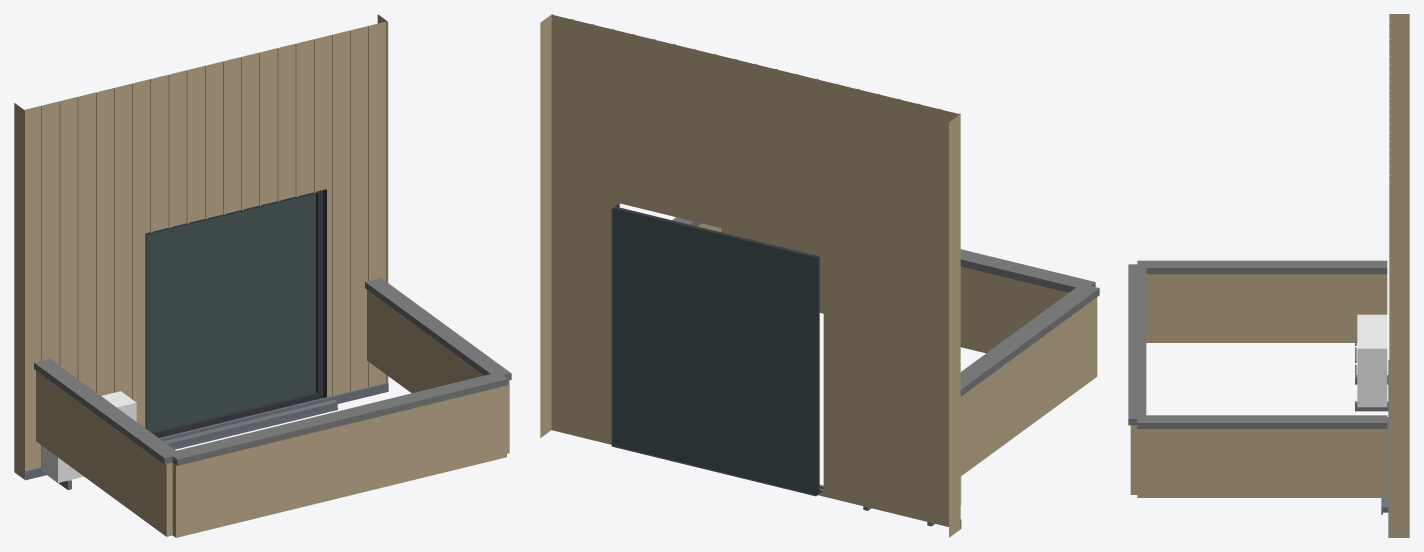
The model's file is mid-stair3_close.fbx.
The picture shows the model from 3 angles, left to right: view 1: azimuth 30°, elevation 25°; view 2: azimuth 150°, elevation 25°; view 3: azimuth 270°, elevation 25°; orthographic projection. The views are drawn at different scales.
Visible parts, largest first — view 1: a2000/800/mid-stair_close; view 2: a2000/800/mid-stair_close; view 3: a2000/800/mid-stair_close.
Part boxes in pixels (left/top/right/bottom): a2000/800/mid-stair_close: left=14, top=14, right=511, bottom=537; a2000/800/mid-stair_close: left=540, top=14, right=1099, bottom=537; a2000/800/mid-stair_close: left=1128, top=14, right=1409, bottom=537.
Bounding box in the file's own units: 3.6 × 3.53 × 2.52.
